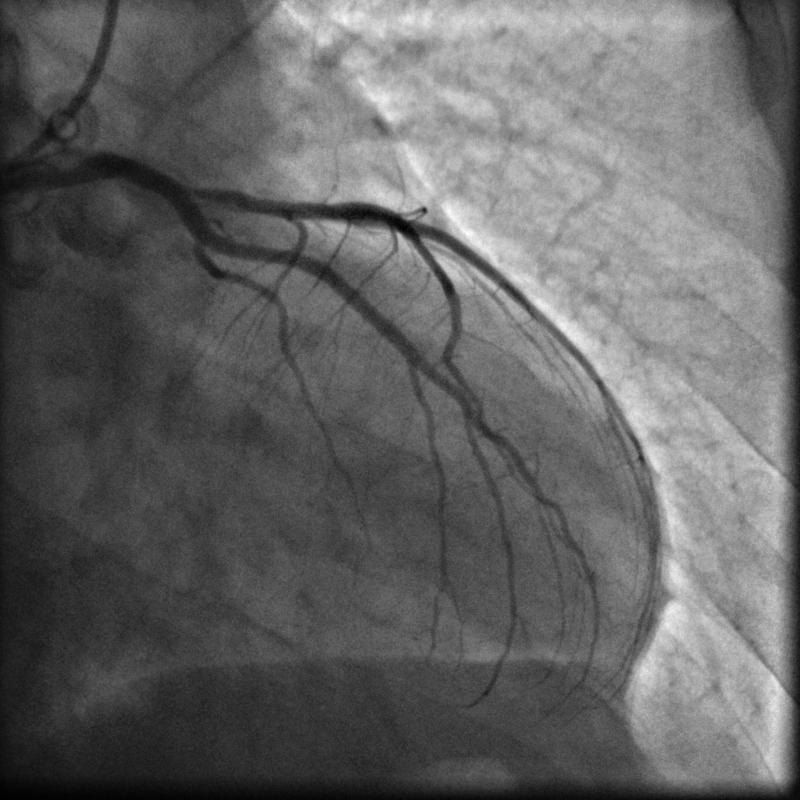Stenosis: (183, 178, 218, 207)
